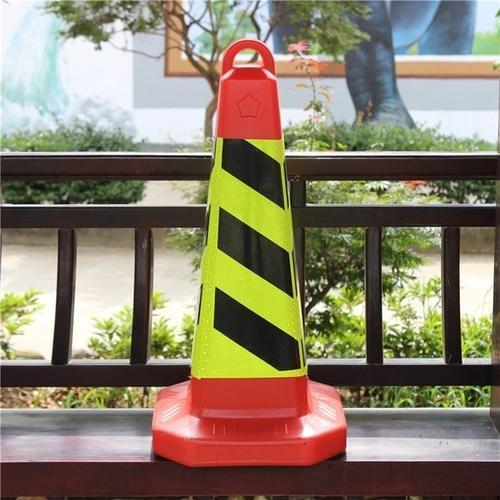cone_barrel: (154, 38, 345, 467)
